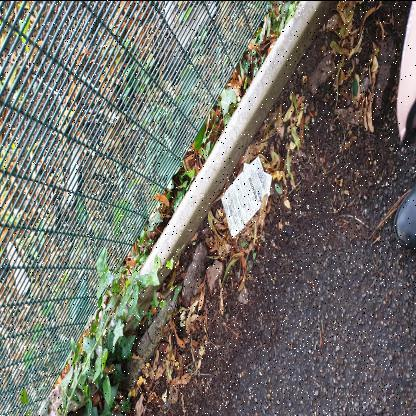paper: (221, 156, 272, 236)
